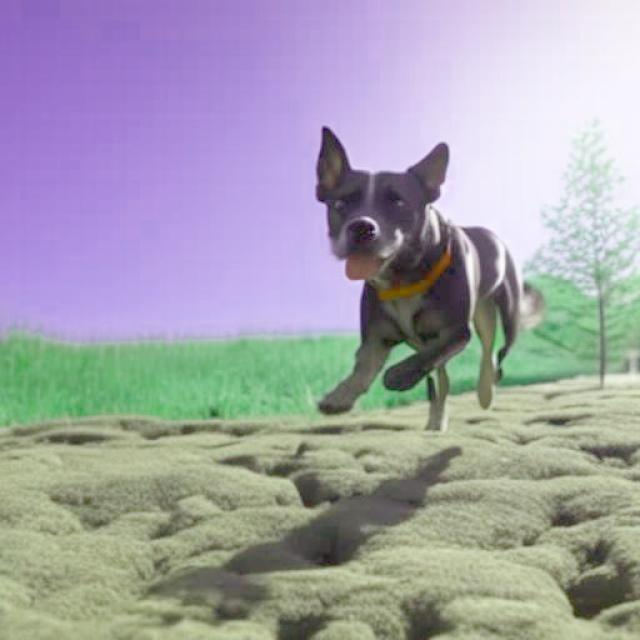Dog: (316, 125, 546, 437)
